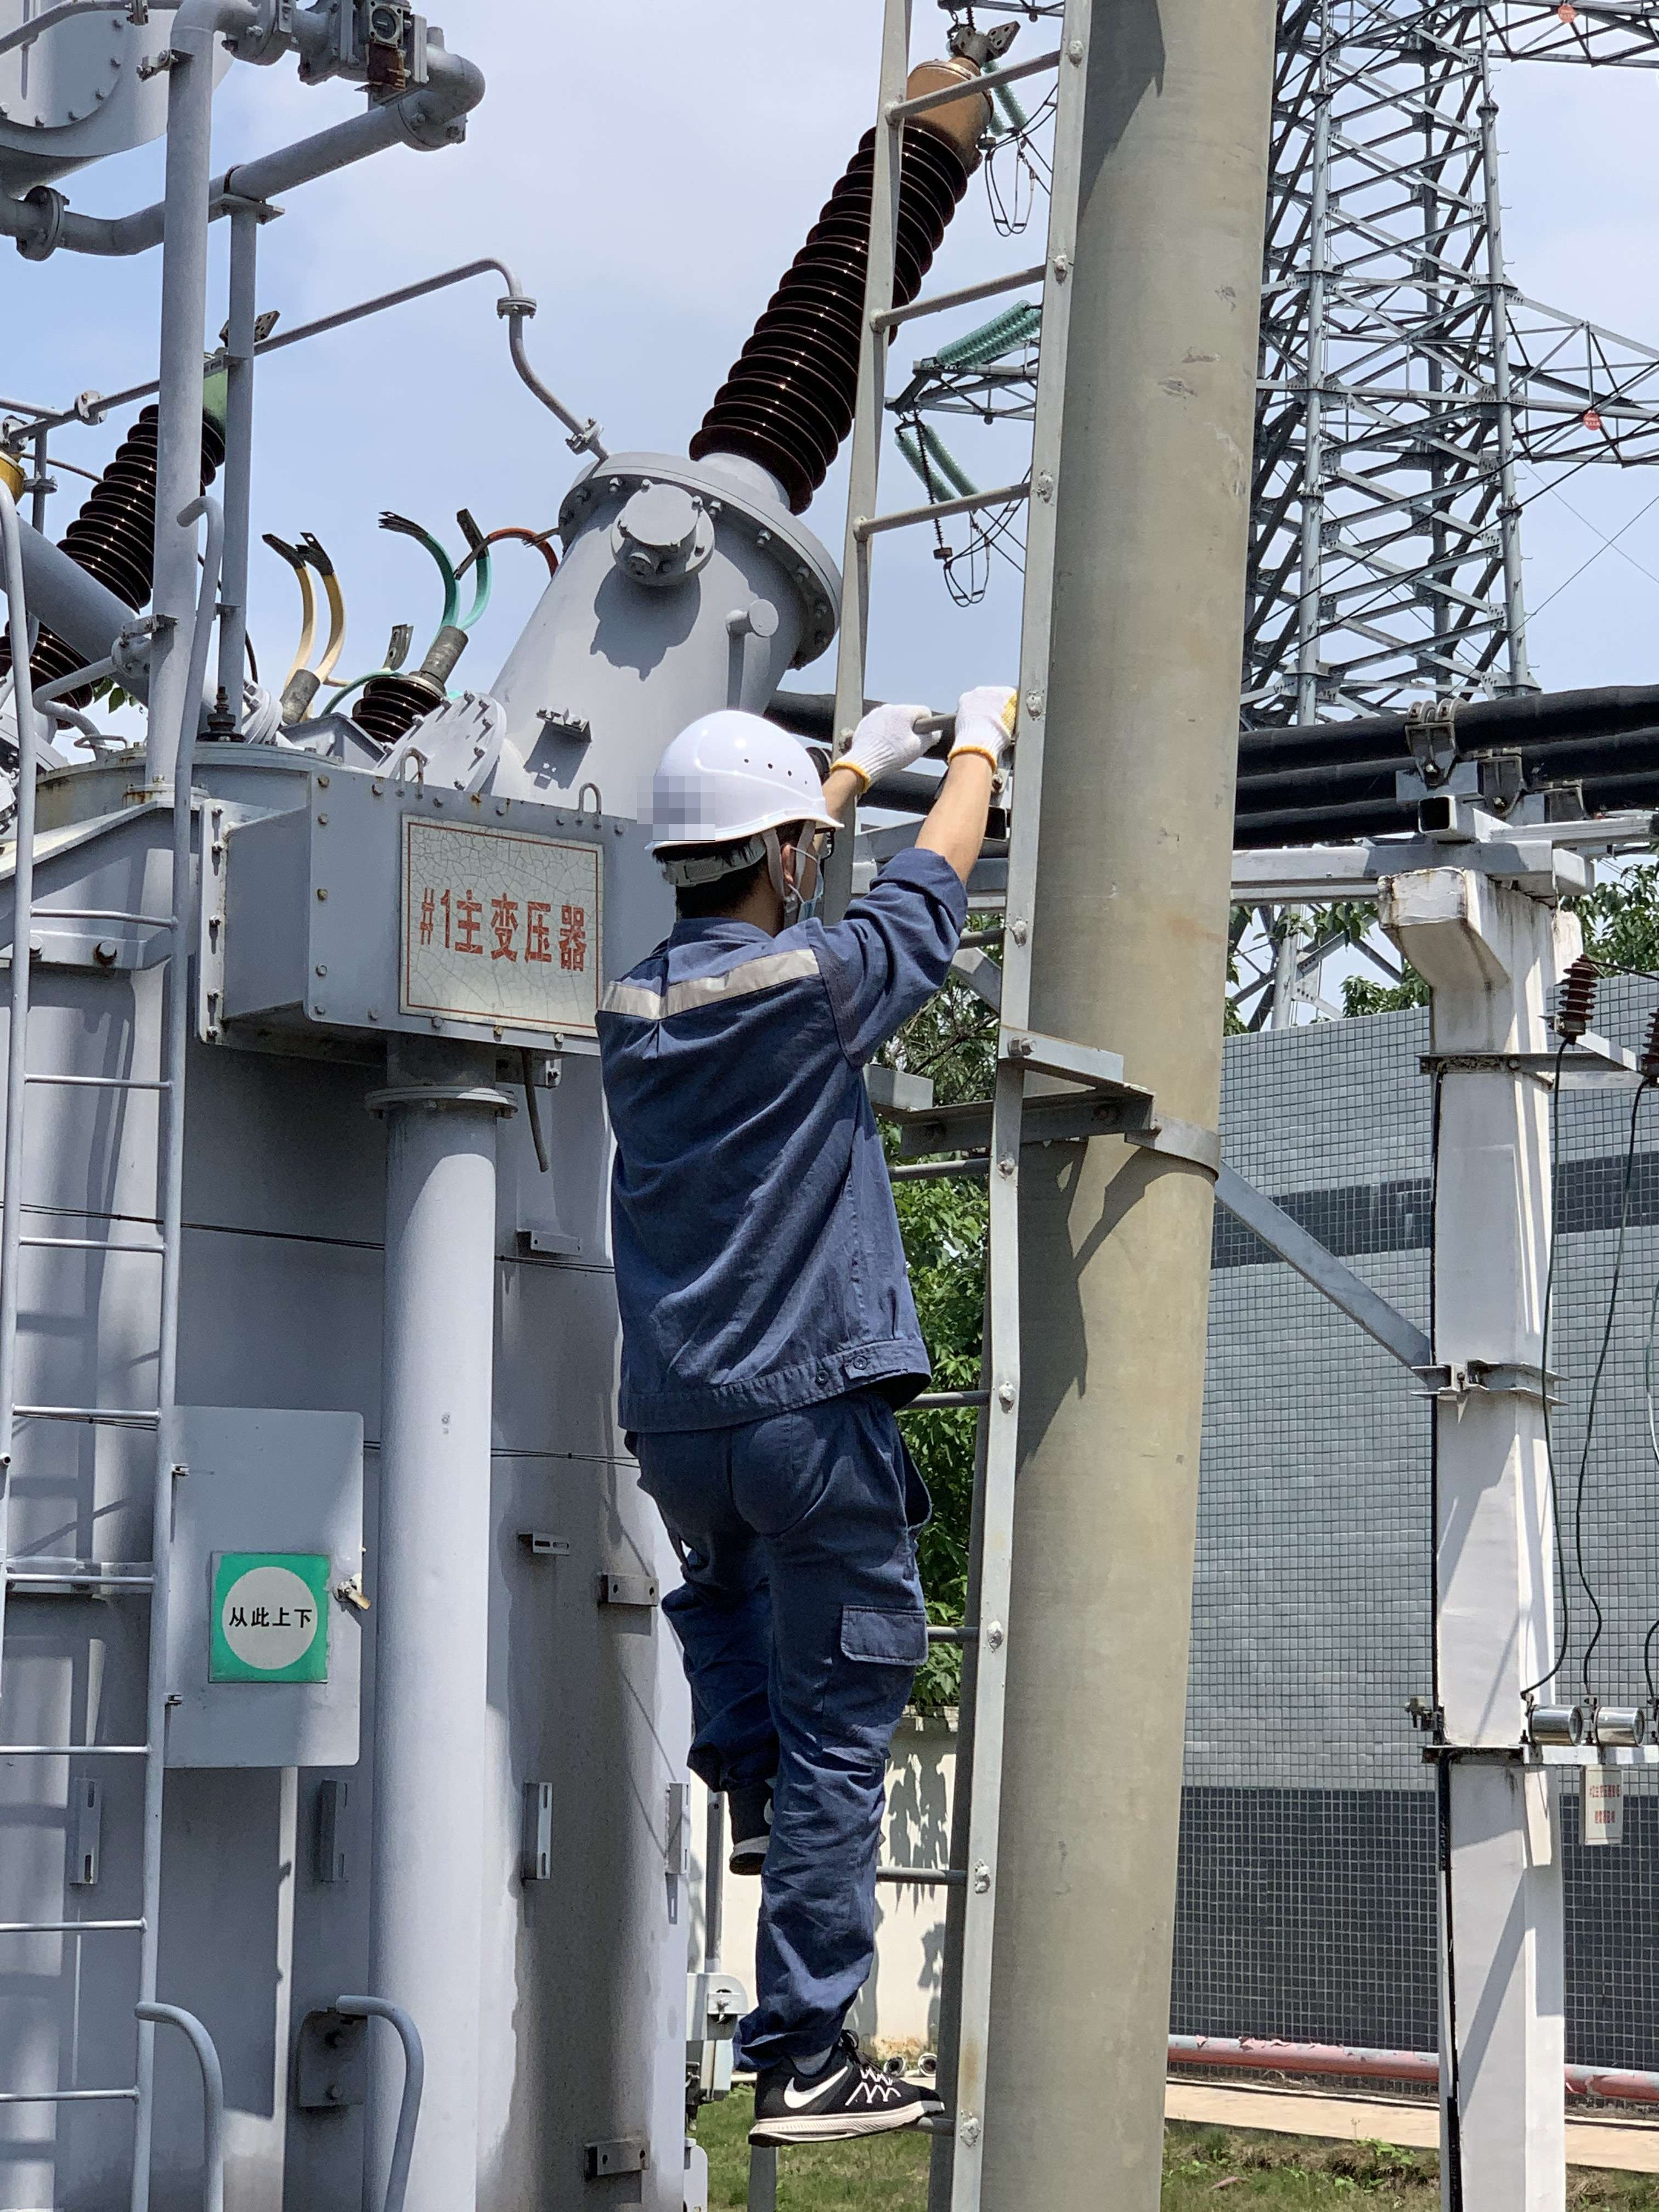downsuit: (647, 1435, 941, 2036)
upsuit: (589, 845, 967, 1402)
wrongtop: (828, 742, 1016, 897)
